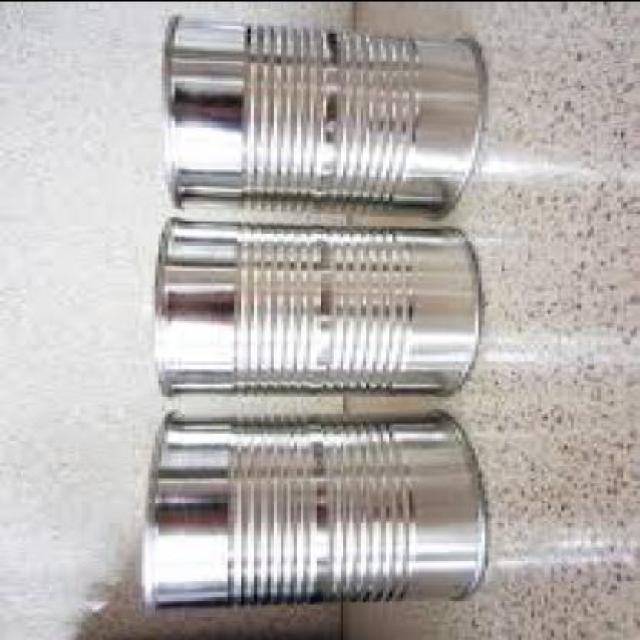METAL: (138, 412, 488, 618), (162, 14, 482, 218), (152, 227, 478, 398)
